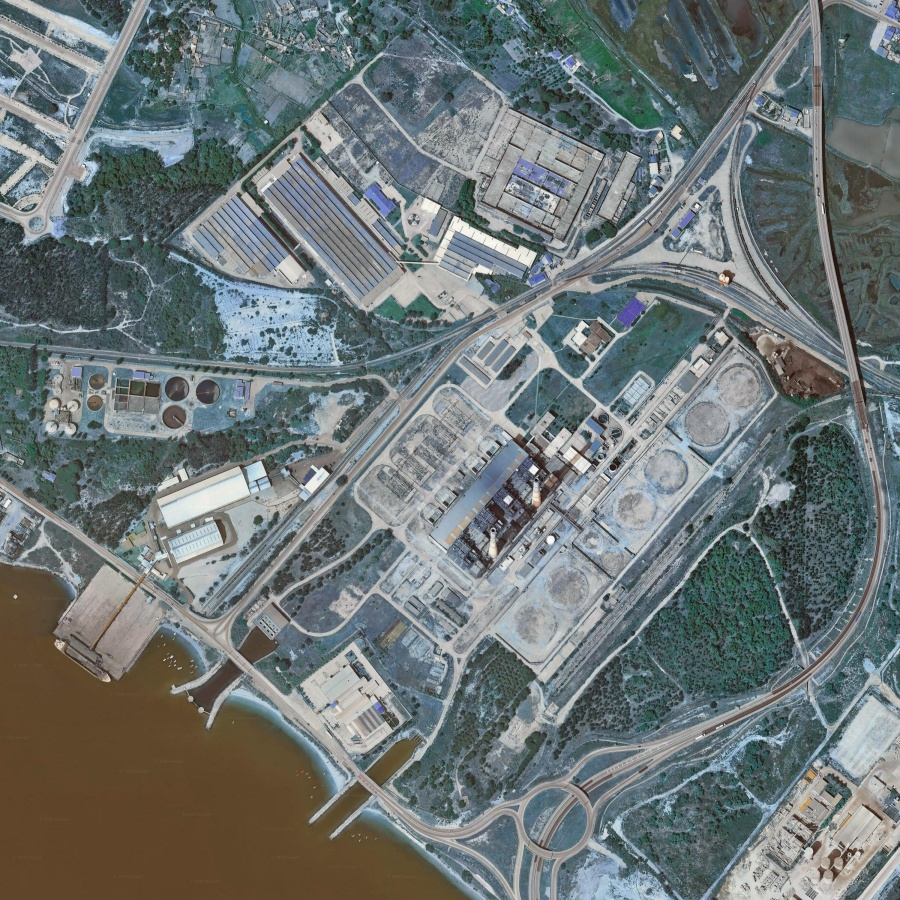PowerPlant: (389, 310, 764, 651)
